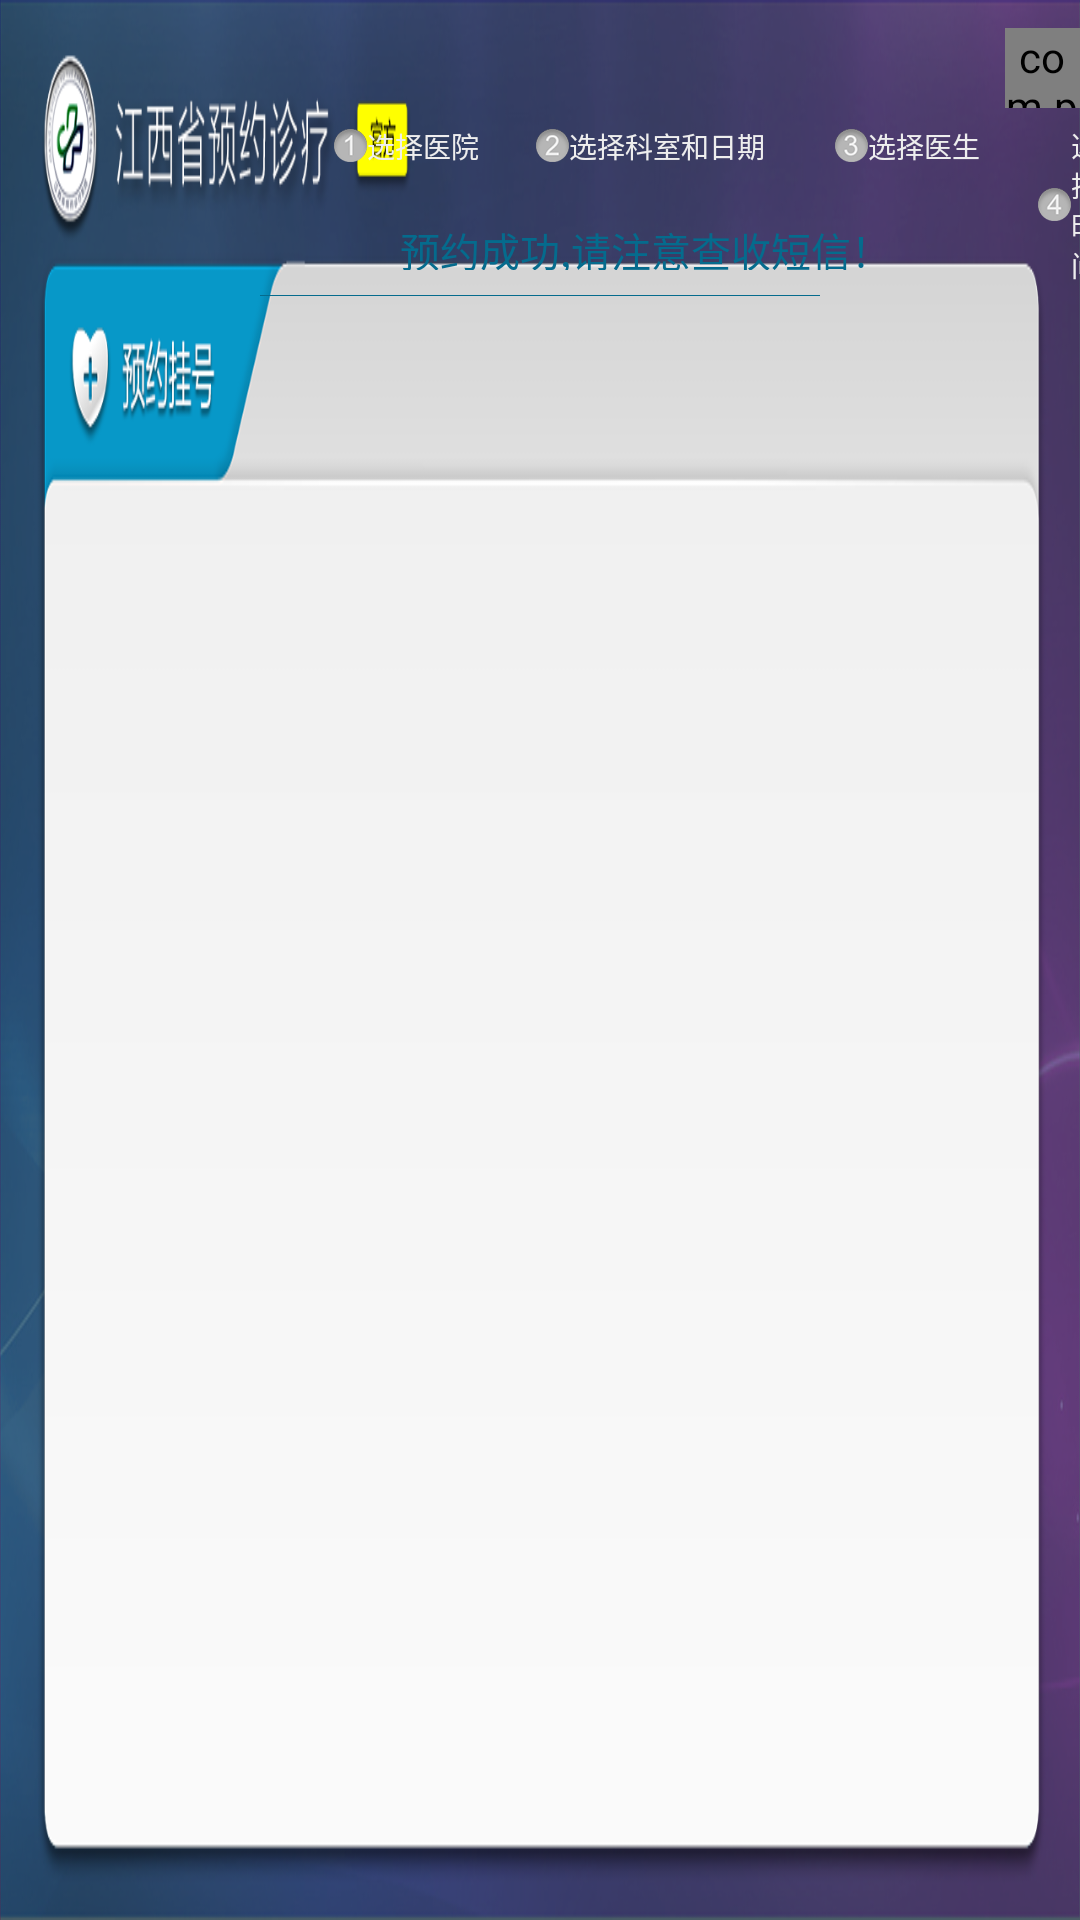

Screen size 1080*1920. Icon name, then its center in pixels as (x=x, y=y):
num: (x=350, y=145), (x=552, y=145), (x=851, y=145), (x=1054, y=204)
